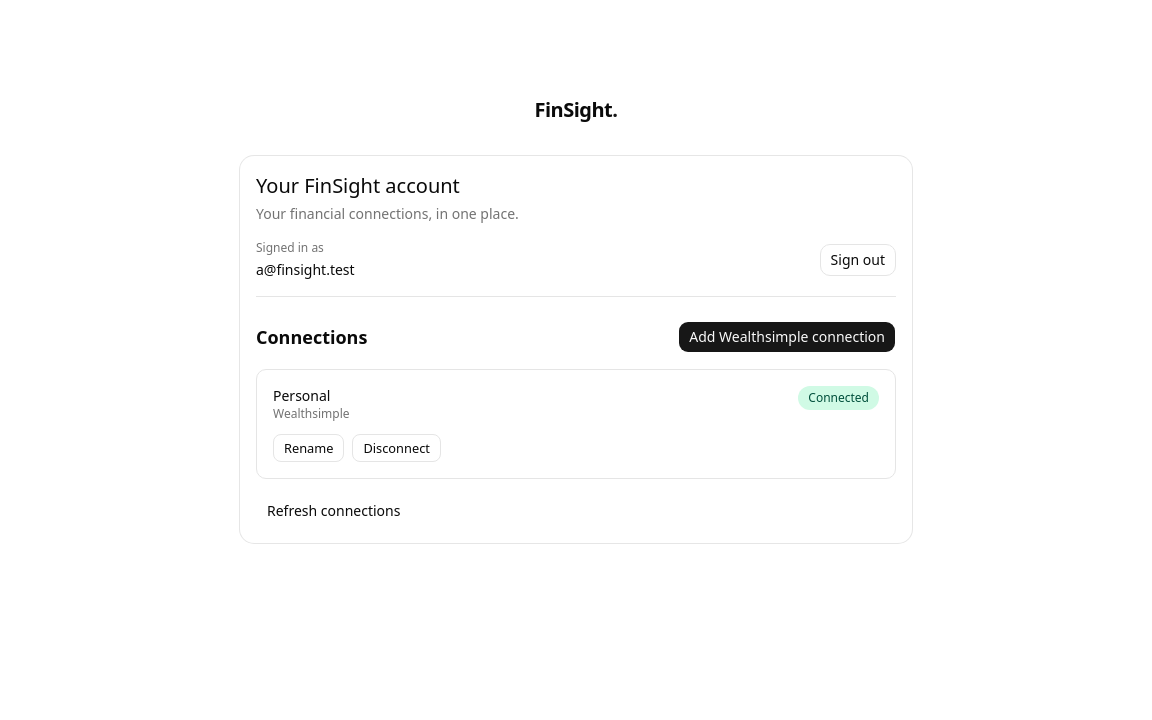
Test: checks the saved session after a malformed disconnect response before offering another attempt
Click the button "Disconnect".
click(397, 448)  # box [352,434,441,462]
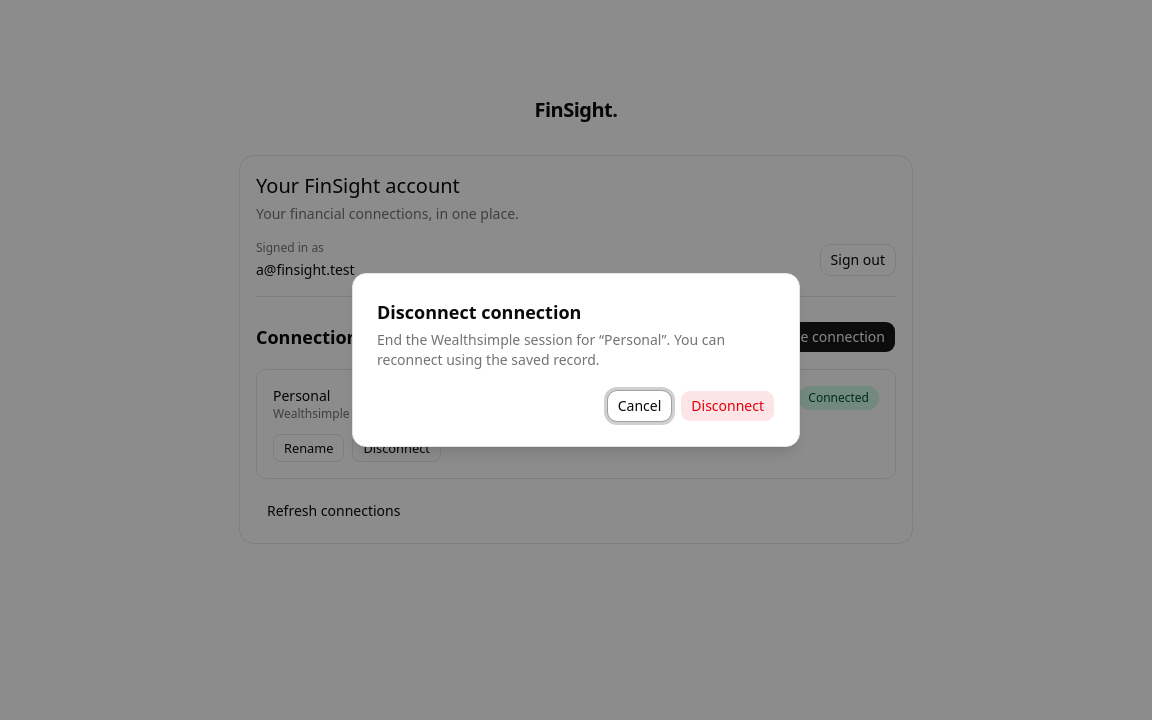
Click the button "Disconnect".
click(728, 406)  # box [680,390,775,422]
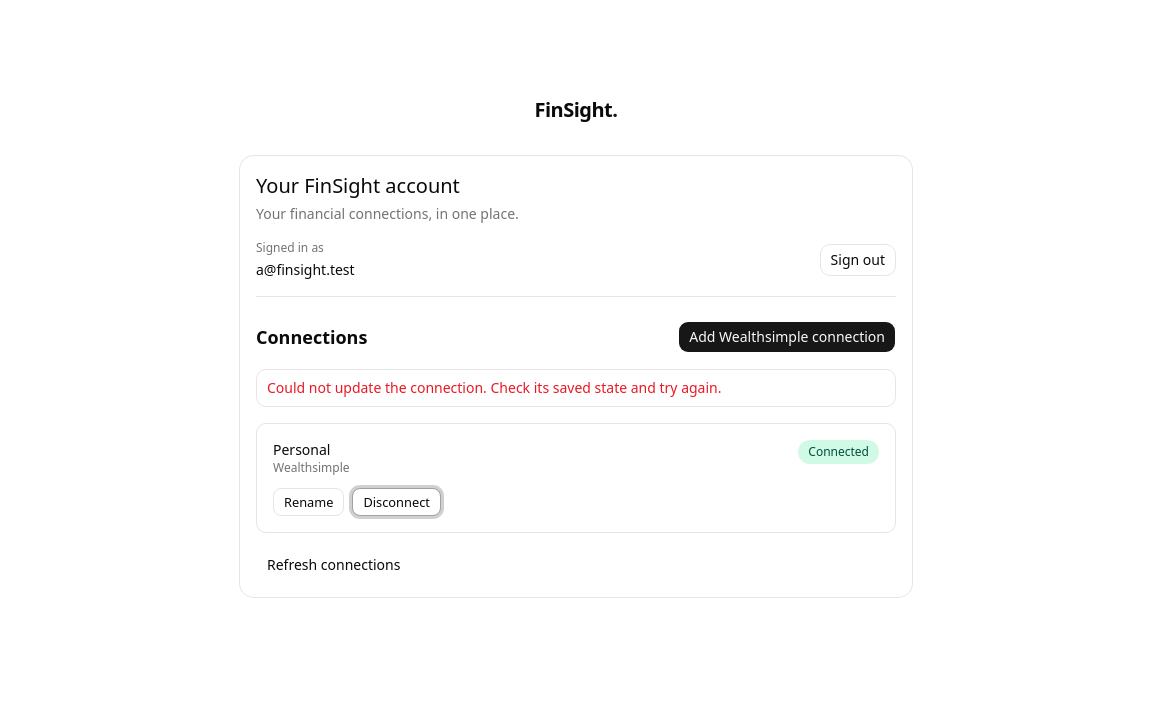
Expected: the text "Connected" is shown, [798,440,879,464]
Expected: the message "Could not update the connection. Check its saved state and try again." is shown, [256,369,896,407]
